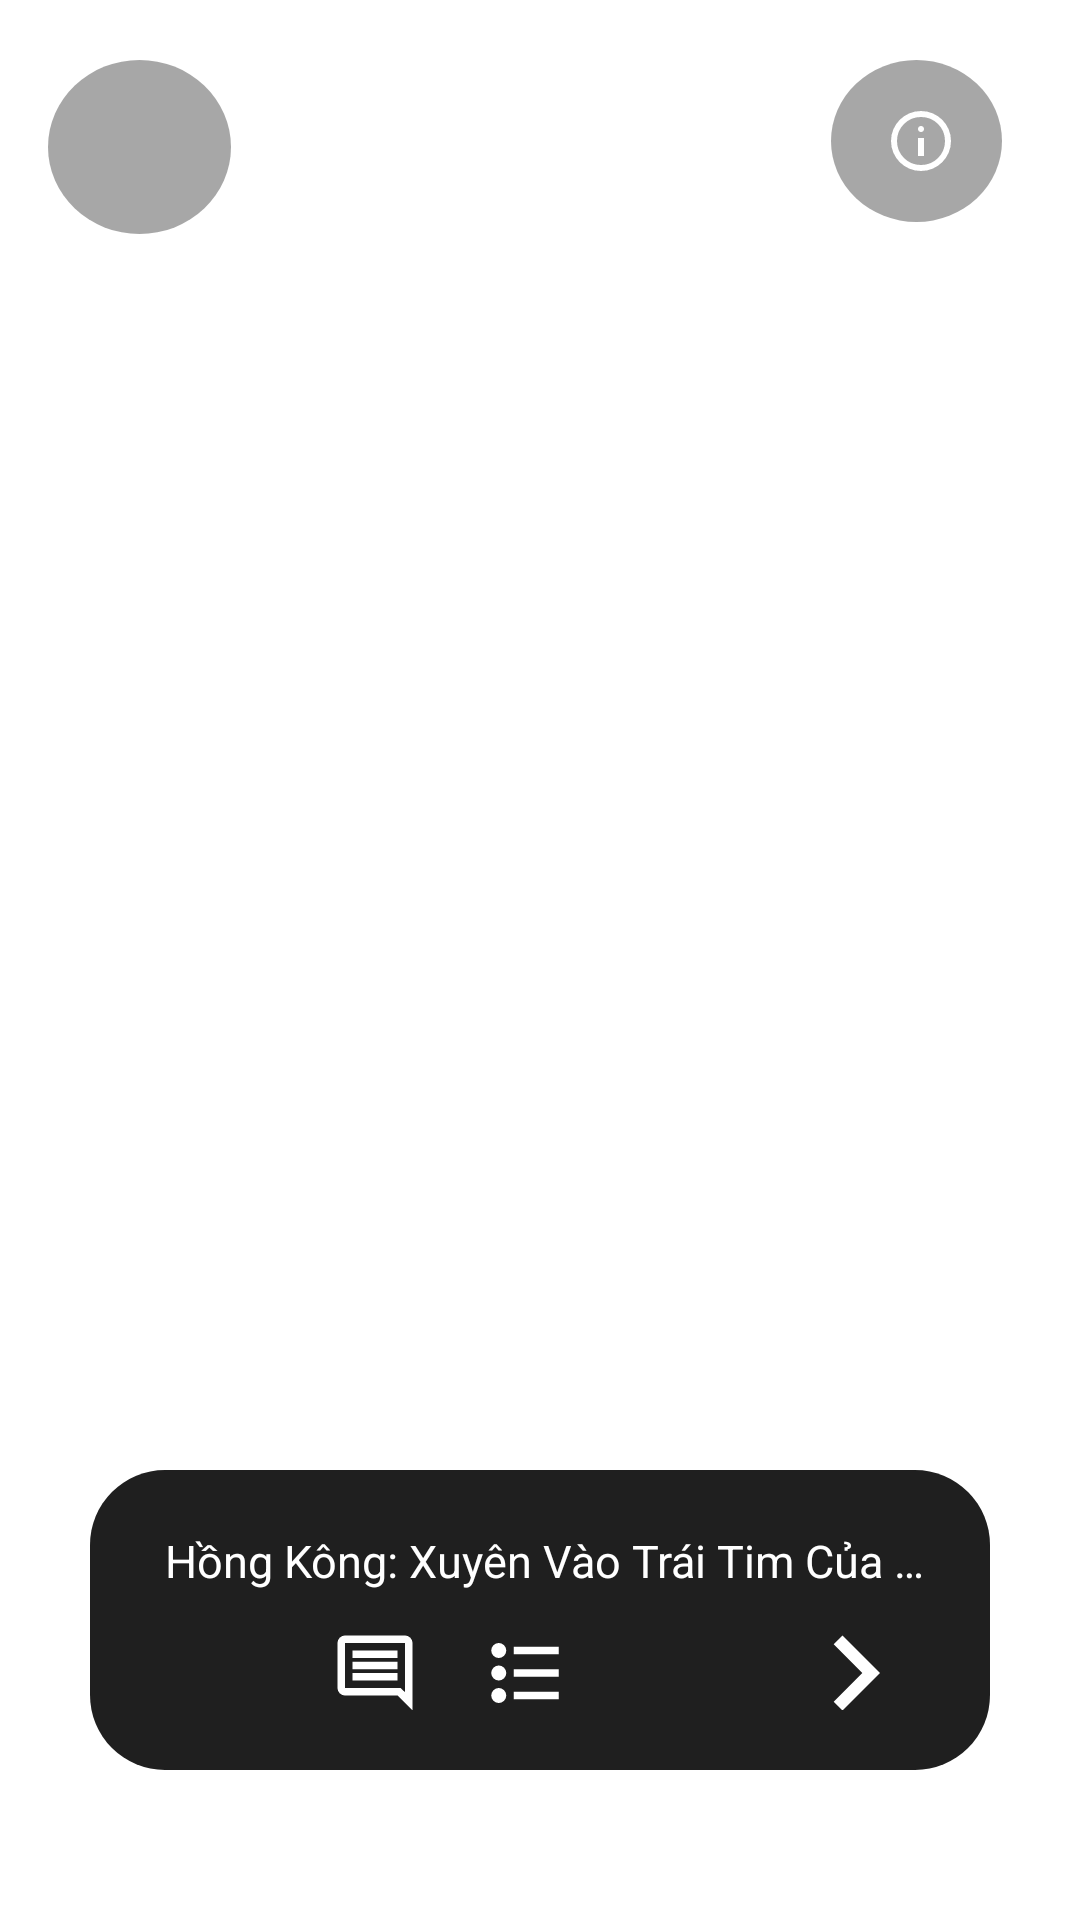

Where to tap for icons on this 1080x1920 app screen, as [x,y]:
comment: [375,1672]
info: [921,141]
list: [525,1673]
